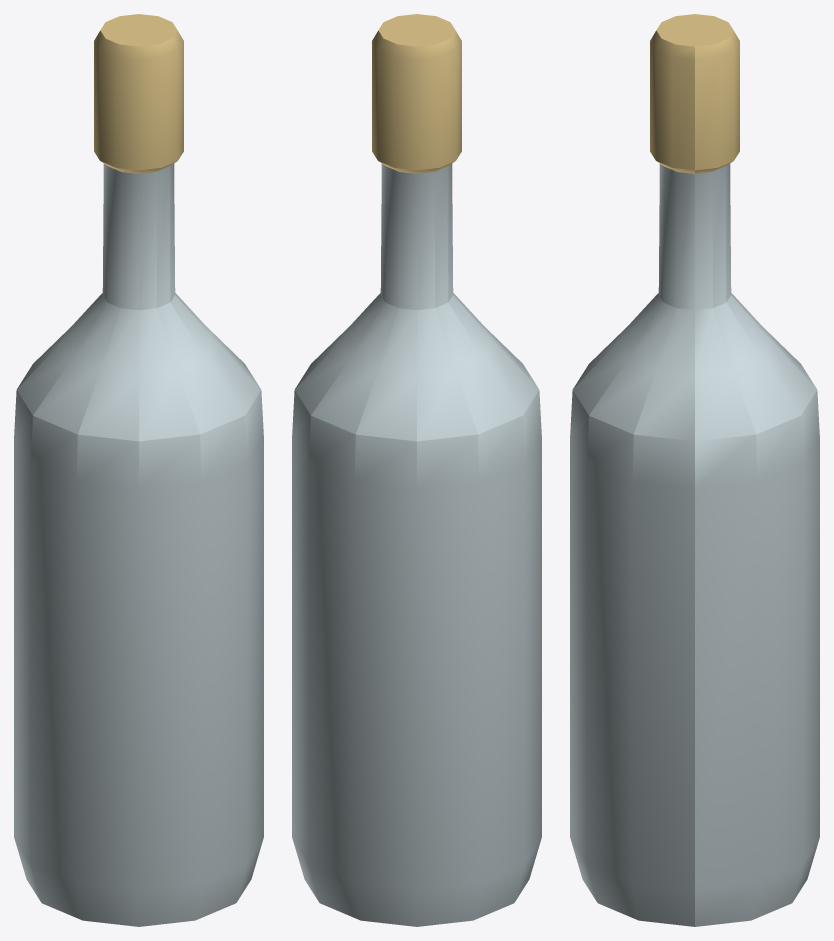
The model's file is bar-pub-and-brewery-taproom-spirit-bottle-4affbb86__18432.glb.
3 views of the same model, side by side, from view 1: azimuth 30°, elevation 25°; view 2: azimuth 150°, elevation 25°; view 3: azimuth 270°, elevation 25° (orthographic).
Visible parts, largest first — view 1: spirit-bottle; view 2: spirit-bottle; view 3: spirit-bottle.
Boxes of the visible parts, bbox=[...] form: spirit-bottle: bbox=[14, 14, 263, 926]; spirit-bottle: bbox=[292, 14, 541, 926]; spirit-bottle: bbox=[570, 14, 819, 926].
Bounding box in the file's own units: 0.086 × 0.3225 × 0.086.
